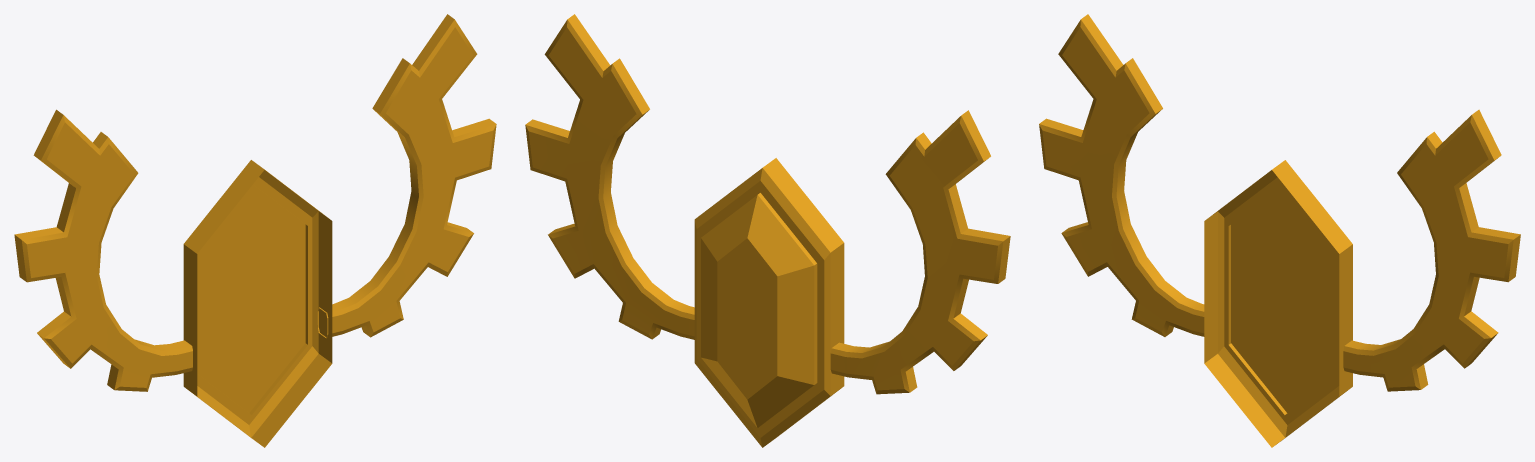
File: CrownPiece4.fbx
3 views of the same model, side by side, from view 1: azimuth 30°, elevation 25°; view 2: azimuth 150°, elevation 25°; view 3: azimuth 330°, elevation 25° (orthographic).
Visible parts, largest first — view 1: CrownPiece4; view 2: CrownPiece4; view 3: CrownPiece4.
Part boxes in pixels (x1=…): CrownPiece4: x1=14, y1=14, x2=496, y2=447; CrownPiece4: x1=525, y1=14, x2=1010, y2=447; CrownPiece4: x1=1039, y1=14, x2=1520, y2=447.
Size of the model in its own units: 105 by 80.02 by 11.
